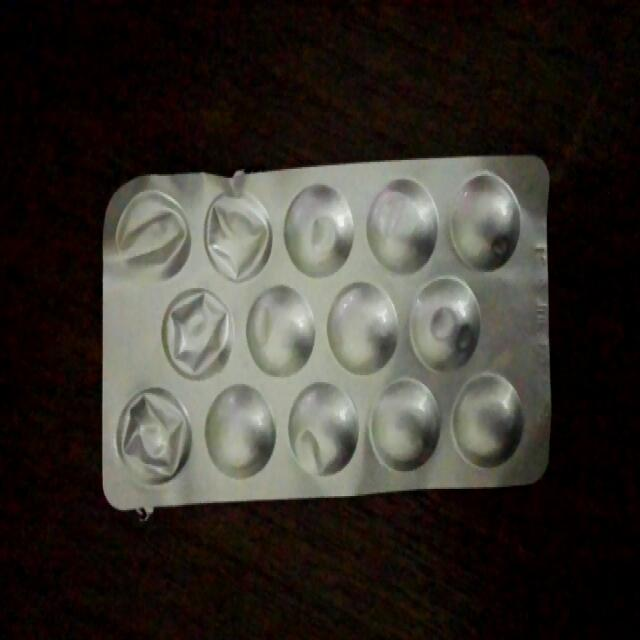Empty: (111, 383, 191, 483), (113, 190, 191, 286), (157, 280, 232, 379), (205, 187, 272, 281)
Pill: (362, 178, 445, 276), (283, 379, 359, 479), (200, 382, 276, 482), (451, 171, 526, 269), (243, 283, 321, 376), (282, 182, 357, 278), (452, 374, 524, 472), (409, 281, 483, 371), (370, 379, 440, 471), (326, 281, 398, 370)
